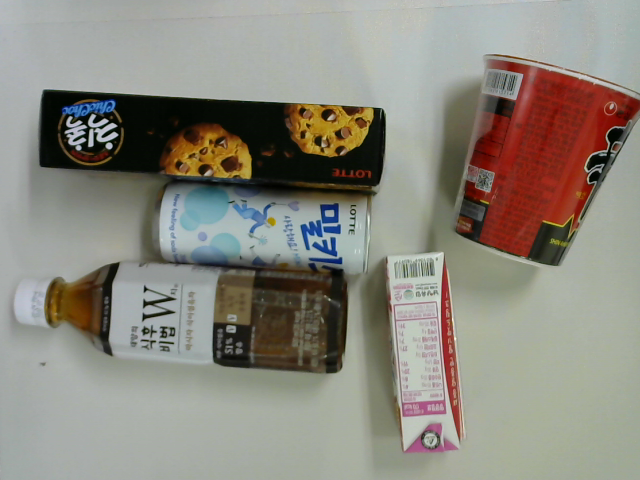Chicchok_Original_2400: (39, 86, 387, 195)
Milkies_250ml: (153, 181, 373, 277)
Post-meal_recipe_W_tea_500ml: (12, 263, 348, 372)
Sinramen_small: (453, 51, 640, 271)
Strawberry_E_Mong: (386, 252, 467, 451)
